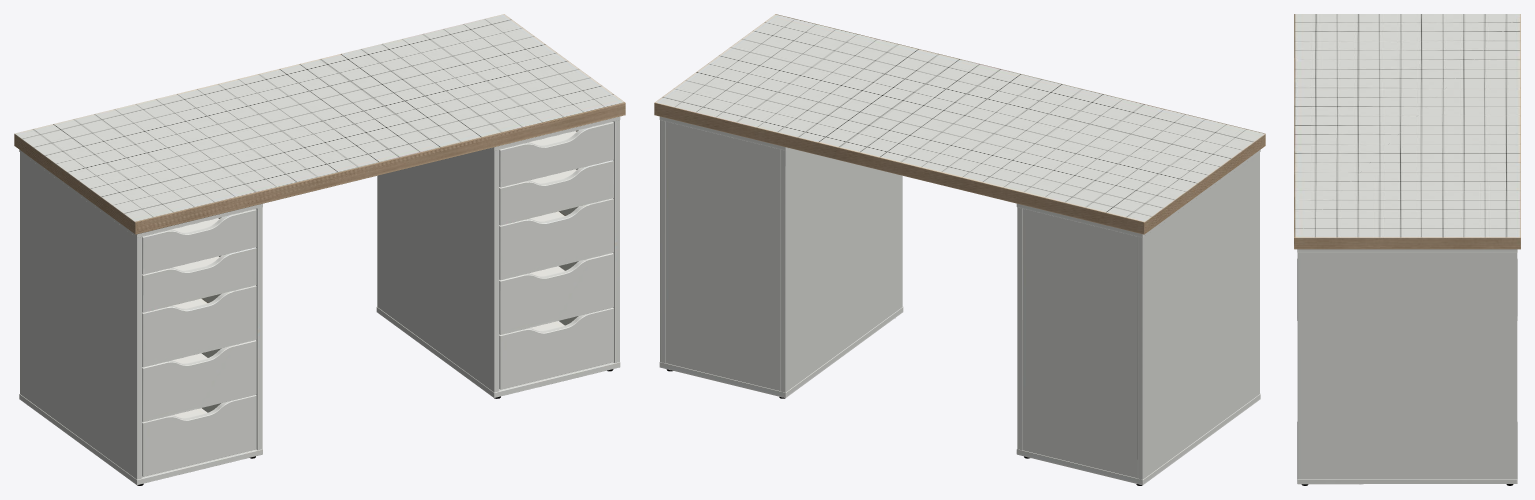
File: LAGKAPTEN_ALEX_99508434.glb
The picture shows the model from 3 angles, left to right: view 1: azimuth 30°, elevation 25°; view 2: azimuth 150°, elevation 25°; view 3: azimuth 270°, elevation 25°; orthographic projection. The views are drawn at different scales.
Visible parts, largest first — view 1: ce8b47d3680f477691b7d3cf55514934; view 2: ce8b47d3680f477691b7d3cf55514934; view 3: ce8b47d3680f477691b7d3cf55514934.
Boxes of the visible parts, left/top/right/bottom form: ce8b47d3680f477691b7d3cf55514934: left=14, top=14, right=625, bottom=485; ce8b47d3680f477691b7d3cf55514934: left=654, top=14, right=1265, bottom=485; ce8b47d3680f477691b7d3cf55514934: left=1294, top=14, right=1520, bottom=485.
Size of the model in its own units: 1.4 by 0.7342 by 0.5998.
Materials: 3 (3 with a texture image).
